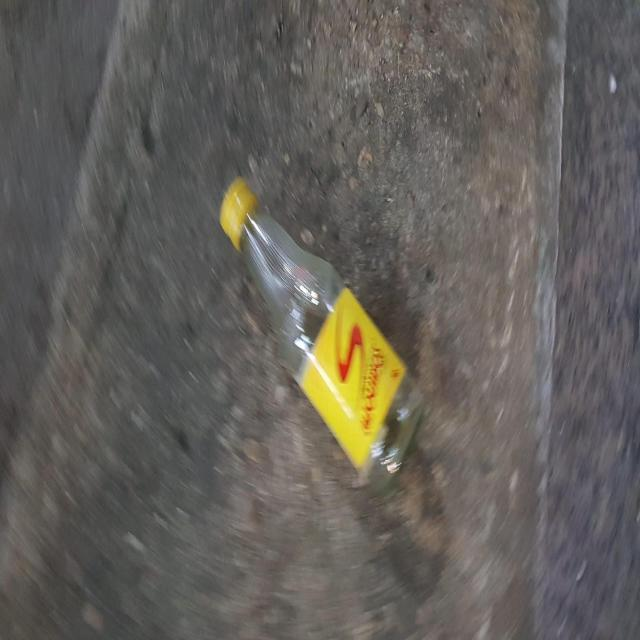glass: (220, 176, 423, 490)
